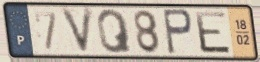7: (34, 10, 58, 50)
8: (132, 8, 161, 56)
E: (193, 9, 234, 55)
P: (161, 8, 195, 57)
Q: (95, 8, 134, 55)
V: (58, 6, 96, 57)
